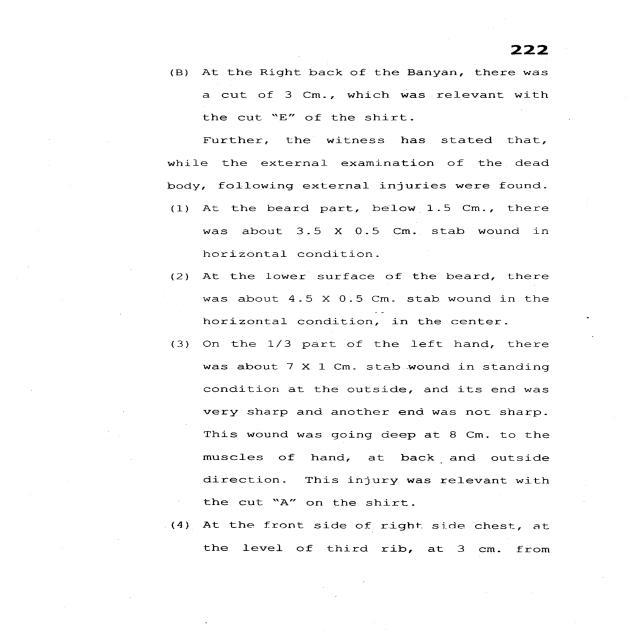page-number: (420, 0, 638, 59)
